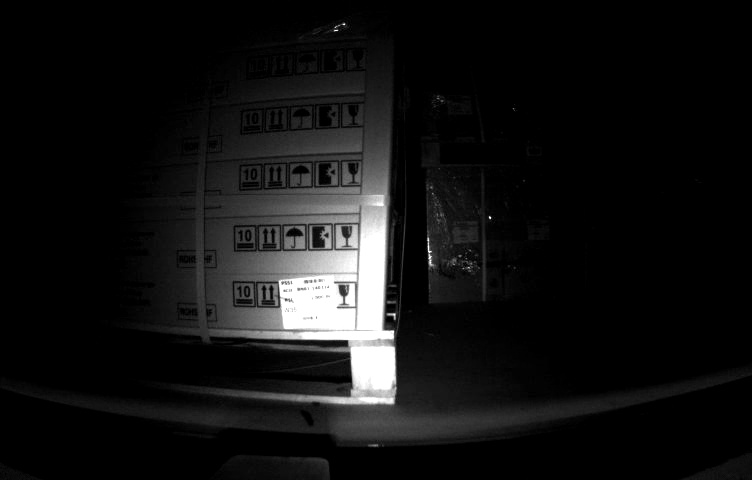True Barcode: (277, 272, 337, 329)
